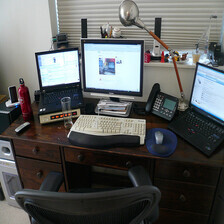laptop: (153, 61, 224, 151), (30, 44, 92, 115)
